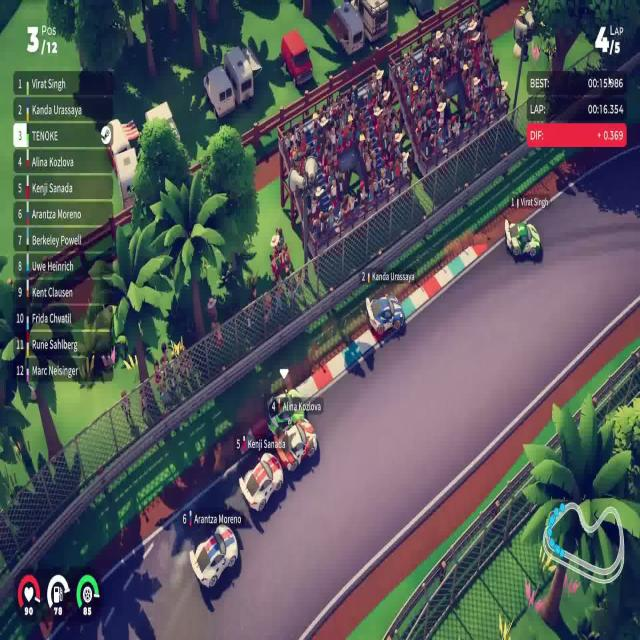car: (188, 523, 238, 590), (238, 451, 284, 513), (275, 416, 318, 473), (365, 293, 405, 338), (504, 217, 541, 262)
